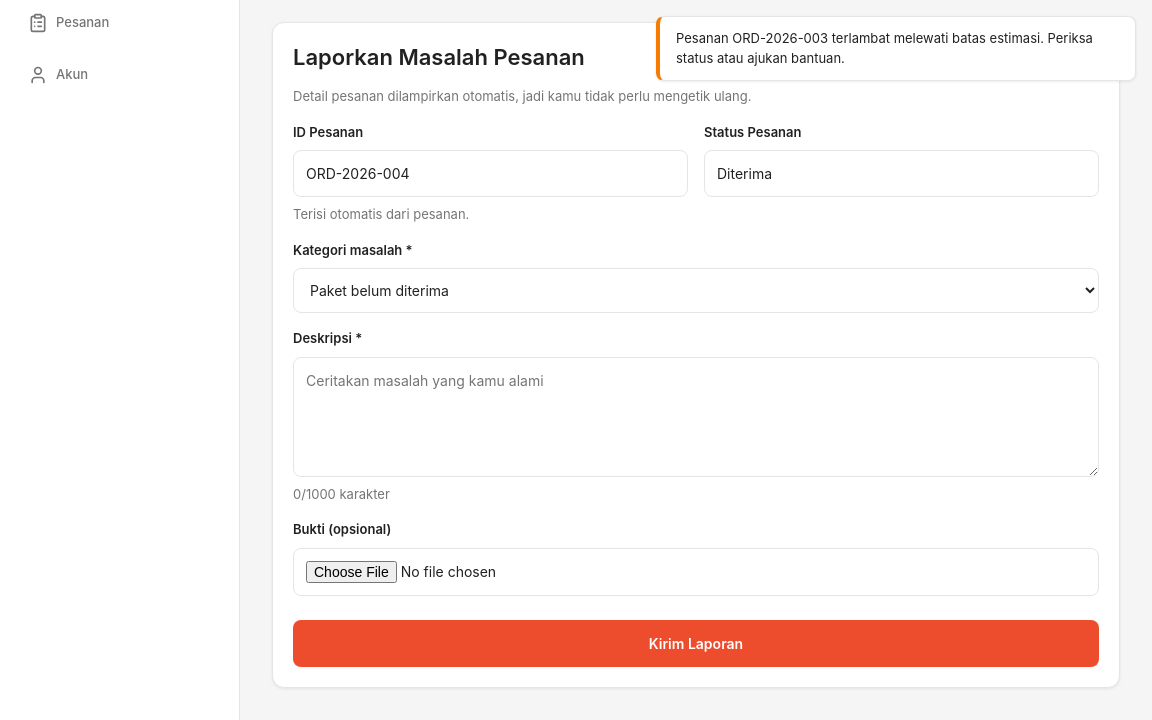
Test: Phase 5 integration › AC-022/024/029: report validation keeps data and issues one ticket
(page scrolled)
Click the button "Kirim Laporan" at (696, 643), box top-left (293, 620), bottom-right (1099, 667)
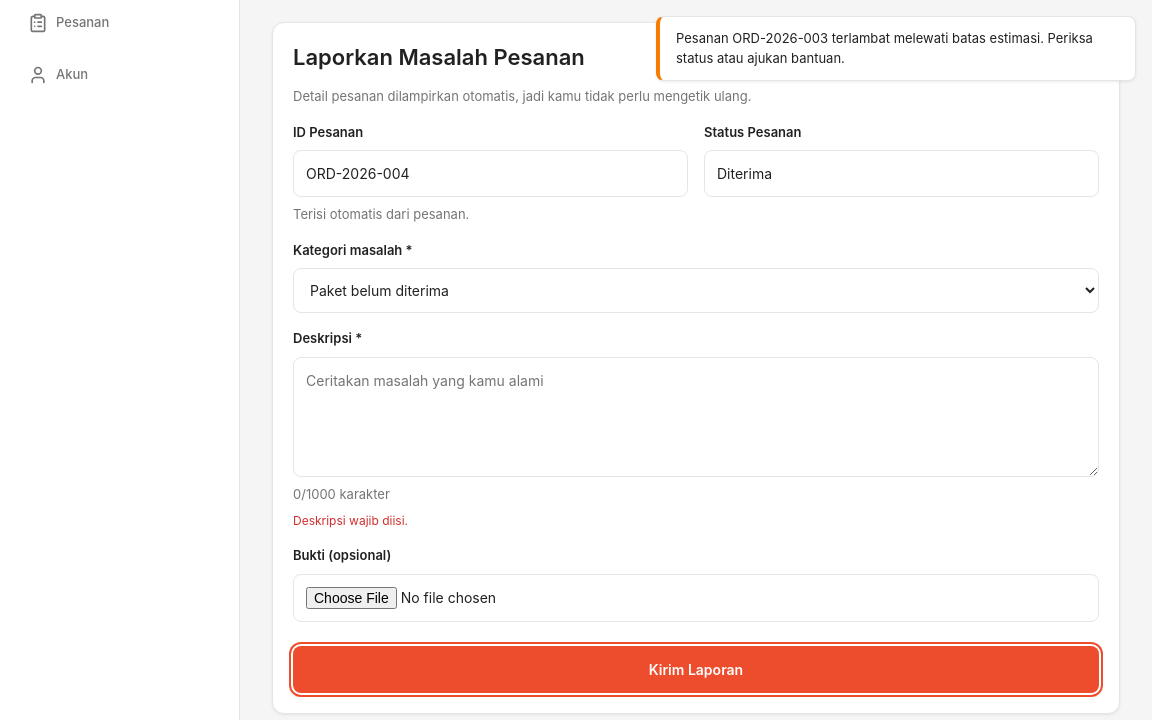
Check: the text "Deskripsi wajib diisi." is shown, box top-left (293, 513), bottom-right (408, 528)
Type "Paket rusak saat diterima." into the text box labelled "Deskripsi *" at (696, 417), box top-left (293, 357), bottom-right (1099, 477)
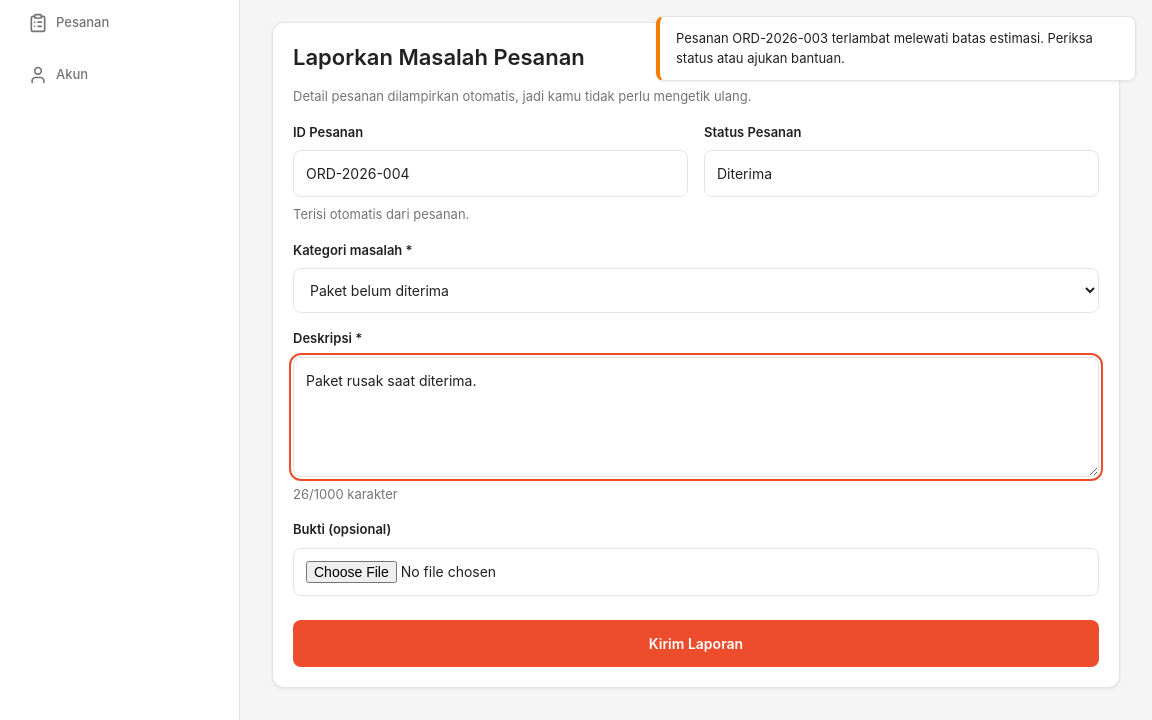
Click the button "Kirim Laporan" at (696, 643), box top-left (293, 620), bottom-right (1099, 667)
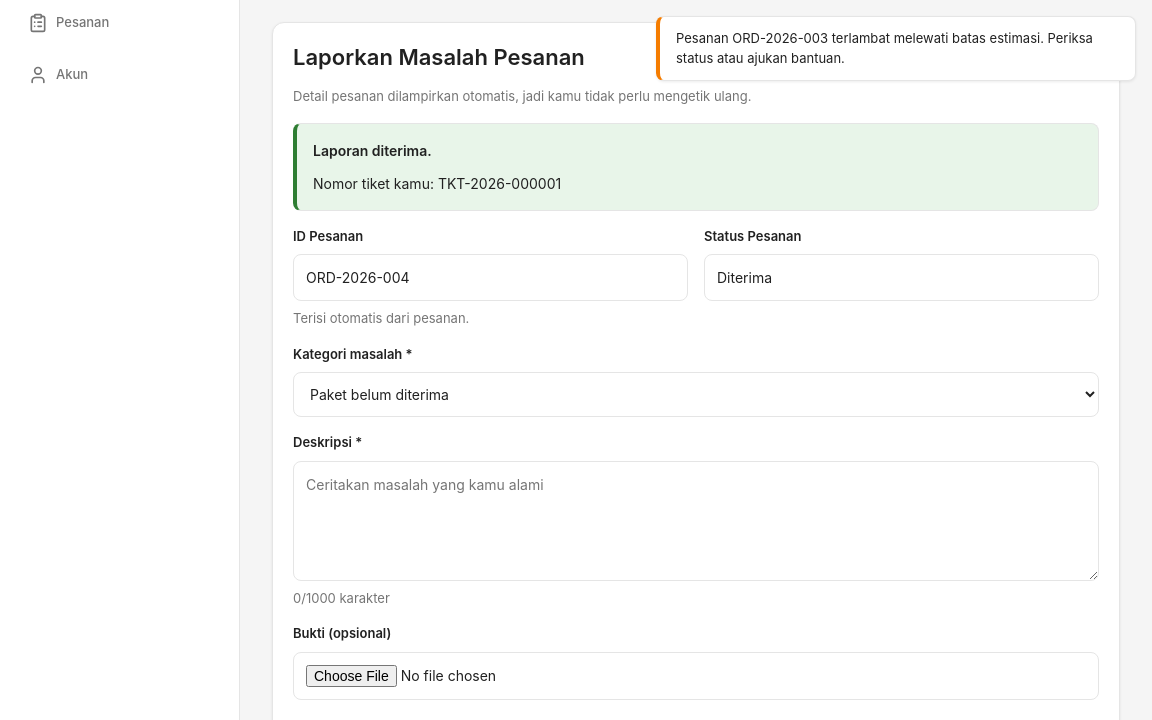
Check: the text "Laporan diterima. Nomor tiket kamu: TKT-2026-000001" is shown, box top-left (293, 123), bottom-right (1099, 211)
